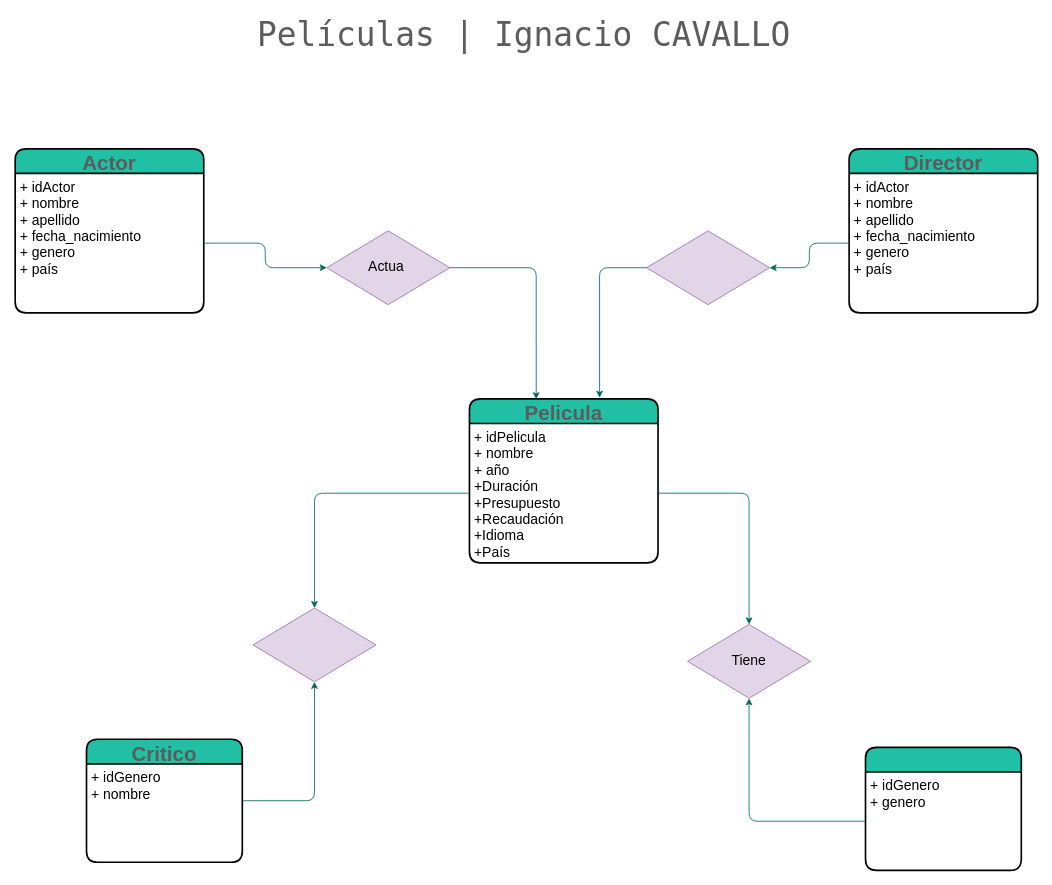
Some shapes in this 1052 by 885 pixel diagram are drawn without their labels. Each missing label, with the box of its shape:
Califica: (252, 607, 376, 682)
Dirige: (646, 230, 770, 305)
Género: (864, 746, 1022, 871)
